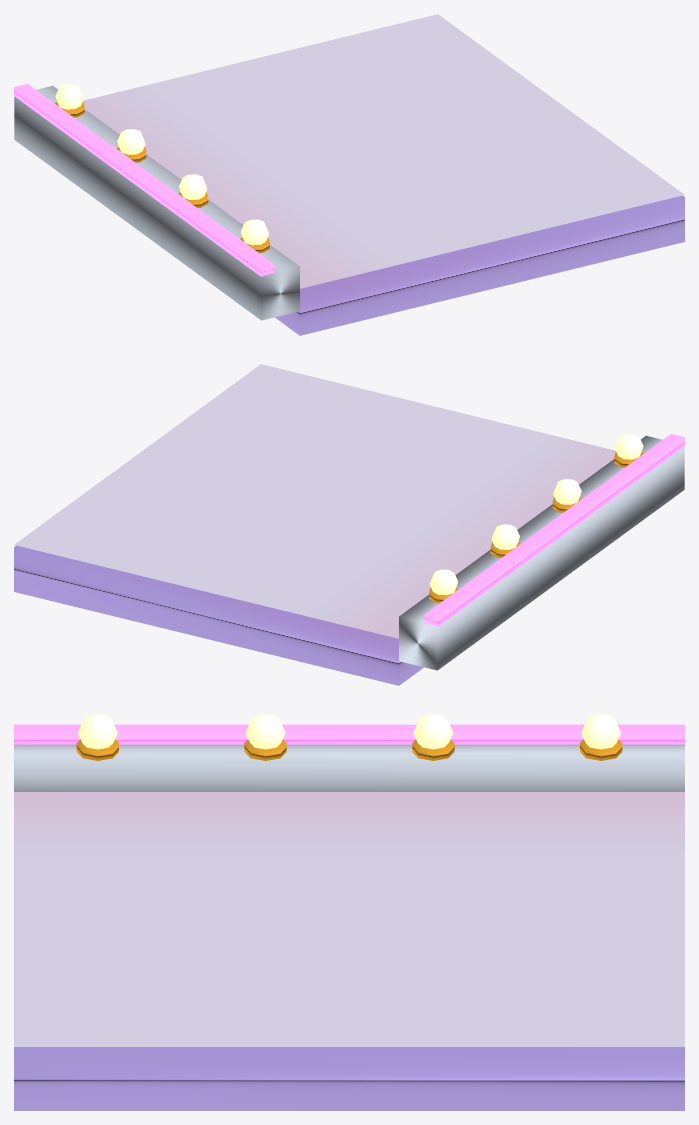
The model's file is runway_side.glb.
3 renders of one model, top to bottom at view 1: azimuth 30°, elevation 25°; view 2: azimuth 150°, elevation 25°; view 3: azimuth 270°, elevation 25°, orthographic. The views are drawn at different scales.
Parts seen in each view (by area): view 1: Deck, Rails; view 2: Deck, Rails; view 3: Deck, Rails.
Boxes of the visible parts, bbox=[...] form: Deck: bbox=[83, 14, 684, 335]; Rails: bbox=[14, 84, 299, 320]; Deck: bbox=[14, 364, 615, 685]; Rails: bbox=[399, 434, 684, 670]; Deck: bbox=[14, 792, 684, 1110]; Rails: bbox=[14, 714, 684, 791].
Bounding box in the file's own units: 0.991 × 0.2165 × 1.
